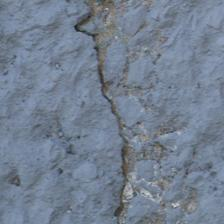Crack: (76, 15, 130, 219)
